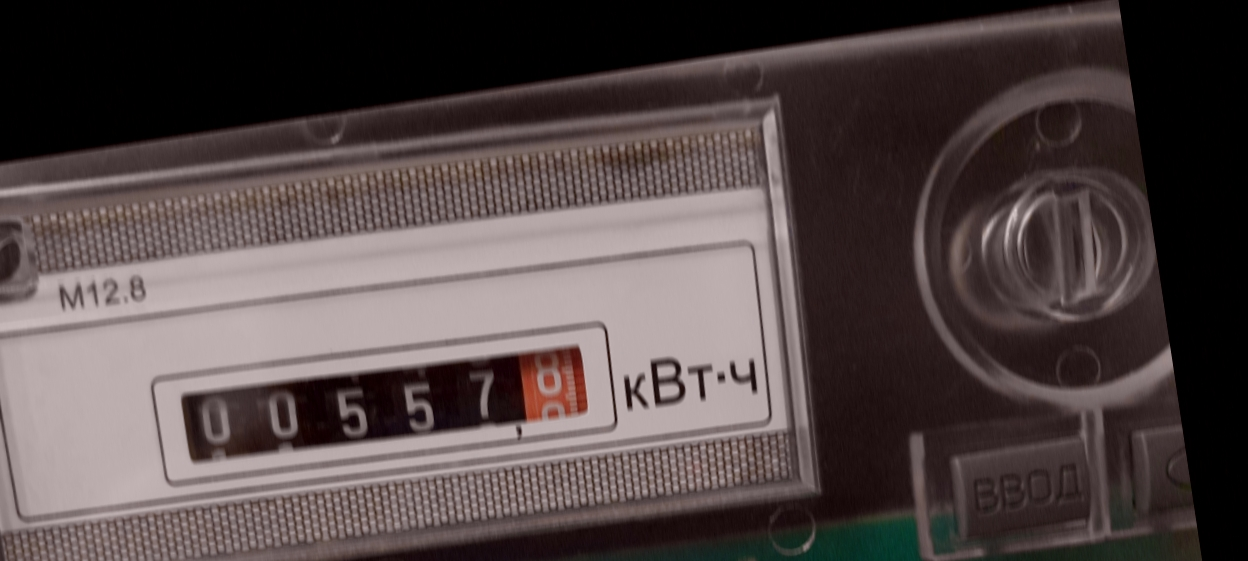0: (191, 389, 234, 450), (259, 385, 300, 442)
5: (394, 374, 439, 437), (328, 381, 370, 442)
7: (459, 364, 499, 423)
8: (528, 347, 563, 400)
screen: (141, 303, 624, 502)
